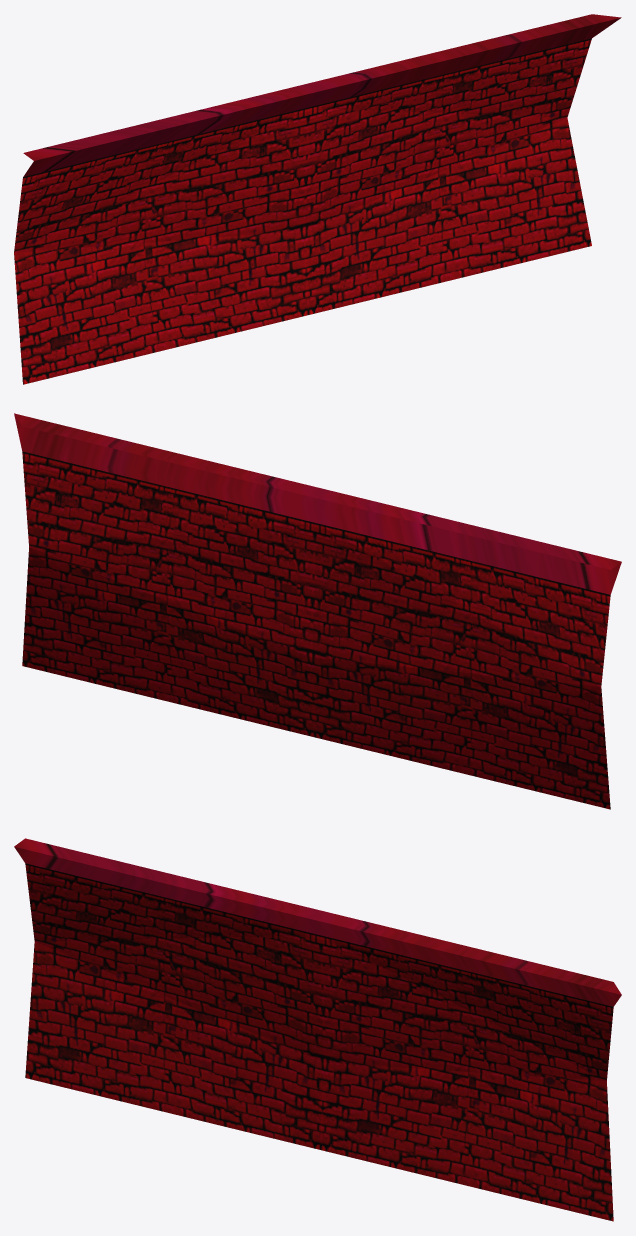
The model's file is W_A2r_xxxx [Ziegel3]_2366.glb.
3 renders of one model, top to bottom at view 1: azimuth 30°, elevation 25°; view 2: azimuth 150°, elevation 25°; view 3: azimuth 330°, elevation 25°, orthographic. The views are drawn at different scales.
Visible parts, largest first — view 1: polySurfaceShape787, polySurfaceShape1065; view 2: polySurfaceShape787, polySurfaceShape1065; view 3: polySurfaceShape787, polySurfaceShape1065.
Boxes of the visible parts, <box> form: polySurfaceShape787: <box>14,38,591,384</box>; polySurfaceShape1065: <box>23,14,621,176</box>; polySurfaceShape787: <box>22,451,610,809</box>; polySurfaceShape1065: <box>14,413,621,594</box>; polySurfaceShape787: <box>25,863,613,1221</box>; polySurfaceShape1065: <box>14,838,621,1006</box>.
Size of the model in its own units: 1.03 by 0.3891 by 0.0607.
2 materials, 2 textured.
